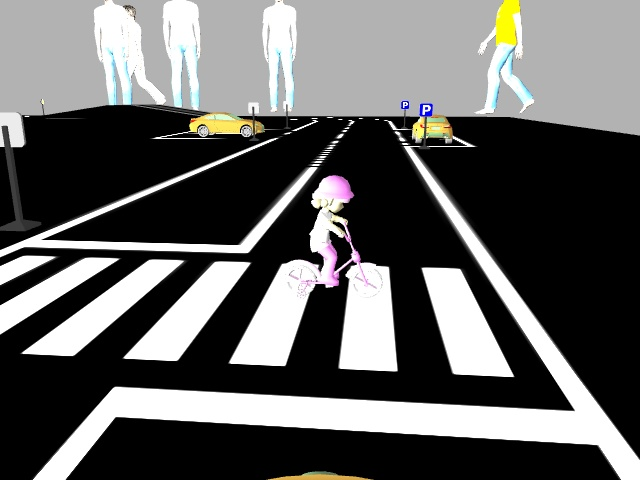Parking: (419, 102, 433, 116), (399, 97, 410, 110)
Pedestrian: (280, 171, 385, 300)
